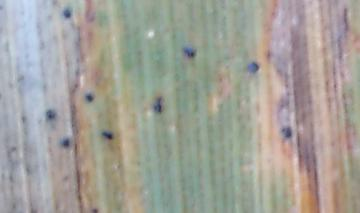tarspot: (279, 125, 294, 140), (181, 45, 196, 58), (153, 95, 163, 114), (44, 108, 57, 121), (246, 61, 259, 74), (100, 130, 113, 140), (59, 137, 71, 147), (330, 63, 337, 78), (84, 92, 94, 102), (62, 8, 72, 18), (60, 28, 69, 39), (3, 38, 10, 52), (38, 39, 46, 51), (23, 166, 32, 176), (52, 201, 61, 211), (73, 35, 82, 45), (16, 74, 26, 82), (19, 114, 27, 123), (133, 159, 142, 167), (324, 79, 329, 93), (40, 83, 48, 91), (73, 56, 81, 64), (265, 49, 272, 58), (8, 145, 17, 152), (7, 175, 16, 182), (29, 206, 38, 213), (45, 135, 52, 144), (47, 147, 54, 156), (116, 160, 123, 169), (337, 50, 344, 58), (7, 81, 14, 89), (90, 207, 99, 213), (74, 68, 80, 77), (62, 174, 69, 181), (275, 67, 282, 74), (329, 140, 336, 147), (38, 70, 45, 77), (332, 83, 338, 91), (283, 90, 291, 96), (73, 82, 79, 89), (278, 103, 285, 109), (10, 202, 17, 208), (23, 52, 30, 58), (45, 14, 53, 19), (283, 82, 289, 88), (1, 89, 3, 103), (1, 4, 3, 12)
